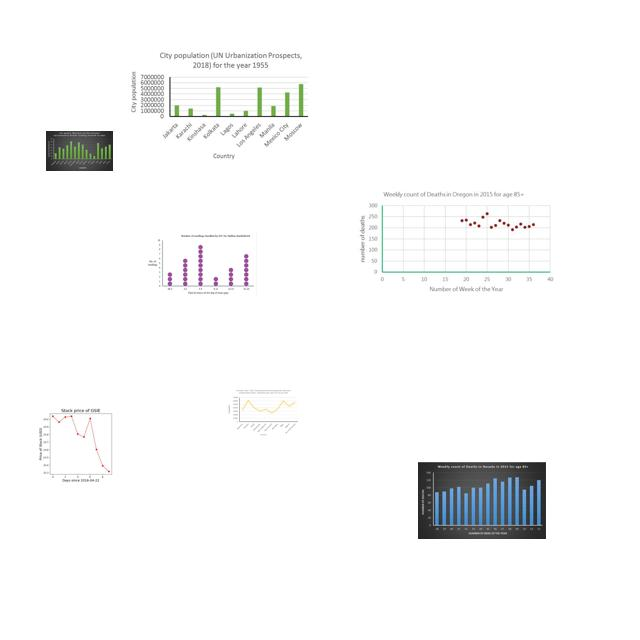Graph: (357, 188, 557, 297), (125, 48, 312, 163), (418, 462, 546, 539), (27, 404, 132, 483), (145, 232, 257, 297), (226, 389, 300, 436), (46, 131, 113, 171)
